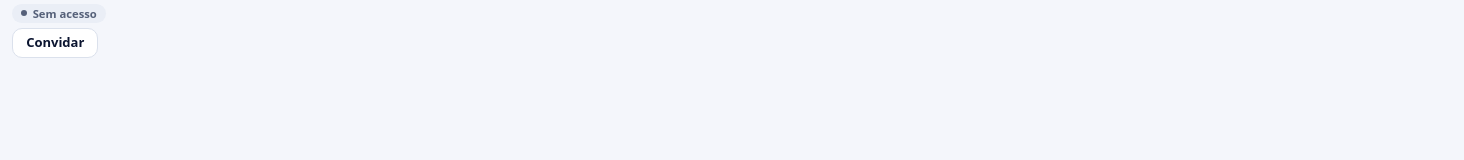
CelulaAcesso › mostra o erro (ex.: sem permissão) e mantém o formulário
The width and height of the screenshot is (1464, 160).
Click the button with aria-label "Convidar Ana" at (55,43), box x1=12 y1=28 x2=98 y2=58
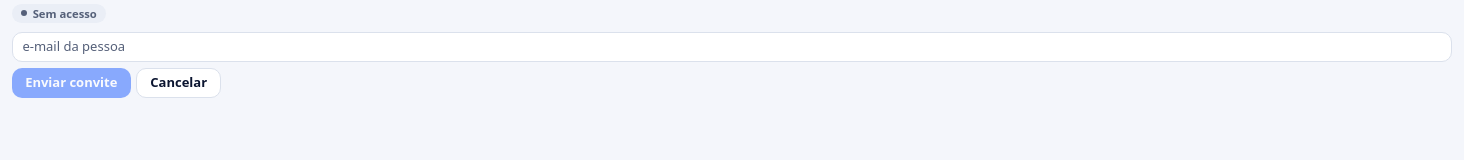
Type "ana@x.com" into the field named "E-mail de Ana" at (732,47), box x1=12 y1=32 x2=1452 y2=62
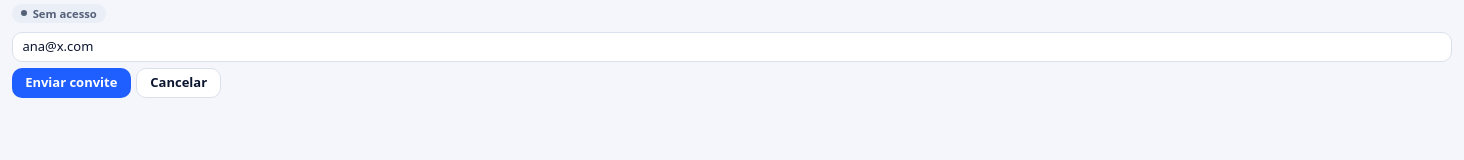
Click the button "Enviar convite" at (71,83), box x1=12 y1=68 x2=130 y2=98
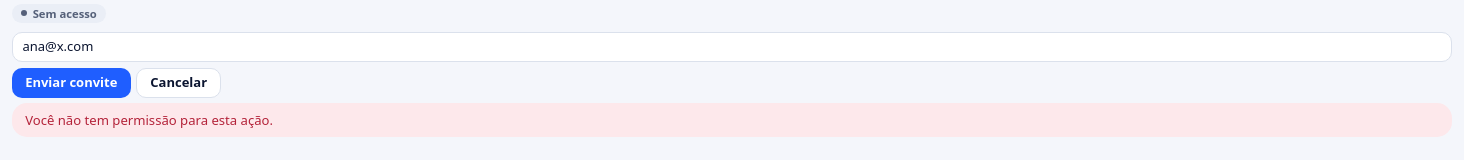
Expected: the text "Você não tem permissão para esta ação." is shown, x1=12 y1=103 x2=1452 y2=137
